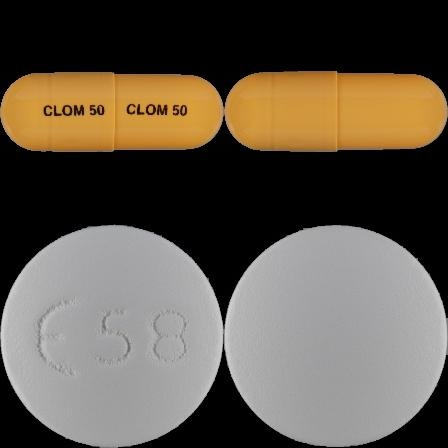60429-289: (0, 0, 224, 224)
